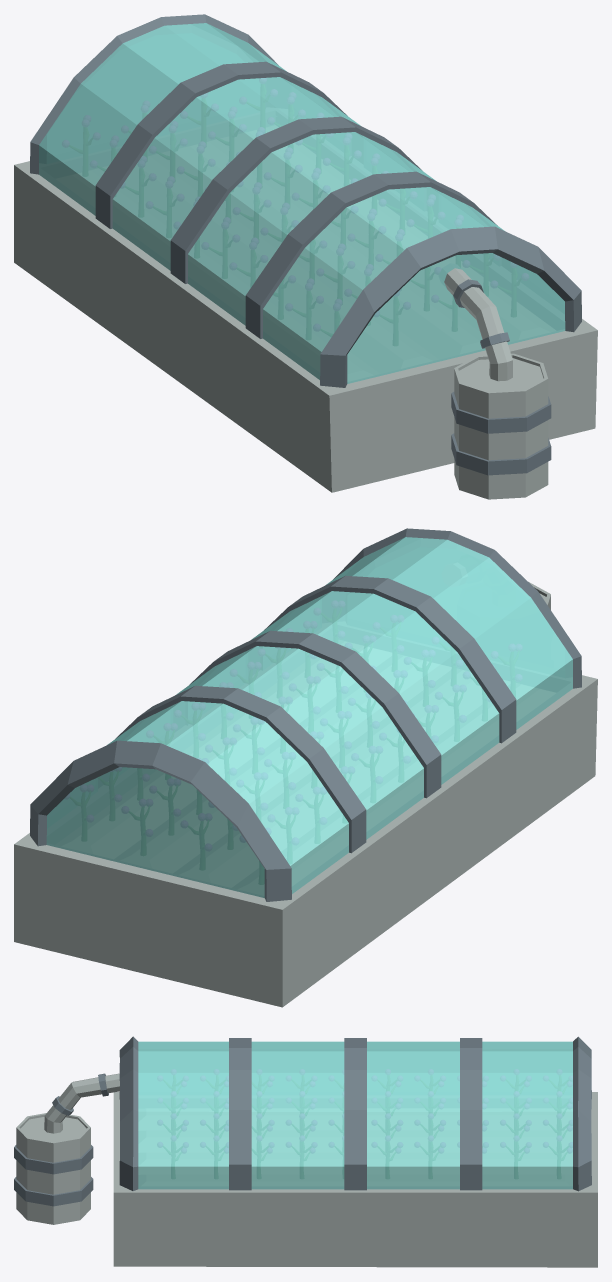
File: GardenBed_1_Glow 2.fbx
The picture shows the model from 3 angles, top to bottom: view 1: azimuth 30°, elevation 25°; view 2: azimuth 150°, elevation 25°; view 3: azimuth 270°, elevation 25°; orthographic projection. The views are drawn at different scales.
Visible parts, largest first — view 1: GreenHouse1.002, GreenHouse1; view 2: GreenHouse1.002, GreenHouse1; view 3: GreenHouse1.002, GreenHouse1.
Part boxes in pixels (x1,y1,x2,y2): GreenHouse1.002: [30, 14, 581, 499]; GreenHouse1: [14, 161, 597, 492]; GreenHouse1.002: [30, 528, 581, 901]; GreenHouse1: [14, 675, 597, 1007]; GreenHouse1.002: [14, 1036, 591, 1224]; GreenHouse1: [113, 1092, 597, 1267].
Bounding box in the file's own units: 200 × 158 × 490.
